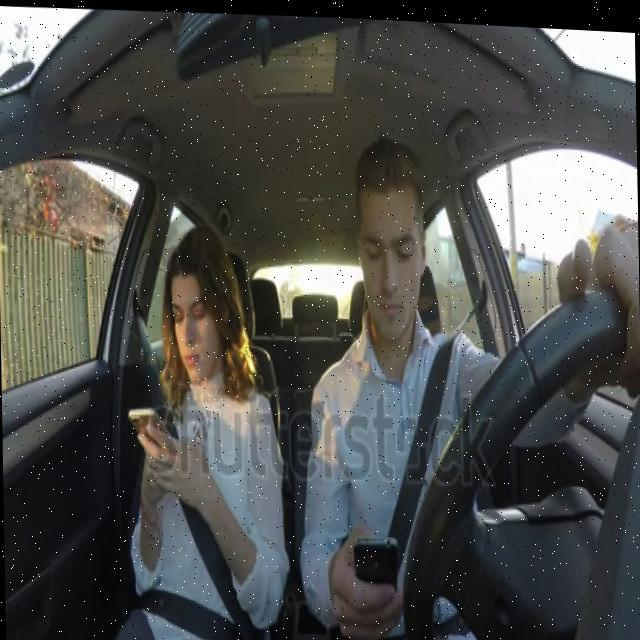PhoneCall: (350, 527, 398, 600), (128, 402, 168, 458)
